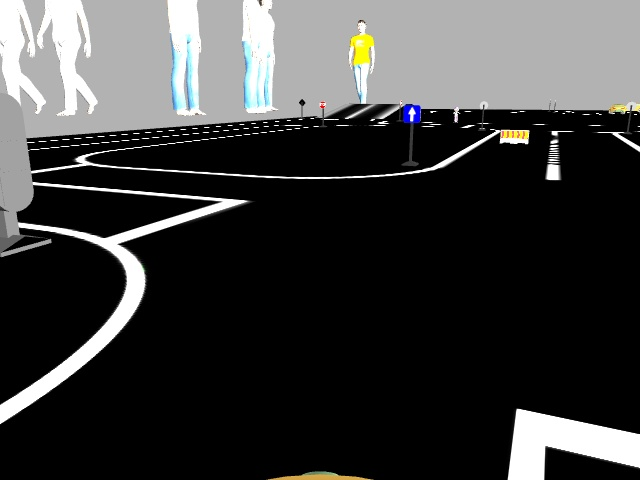ClosedRoadStand: (500, 129, 527, 142)
OneWay: (404, 104, 420, 122)
